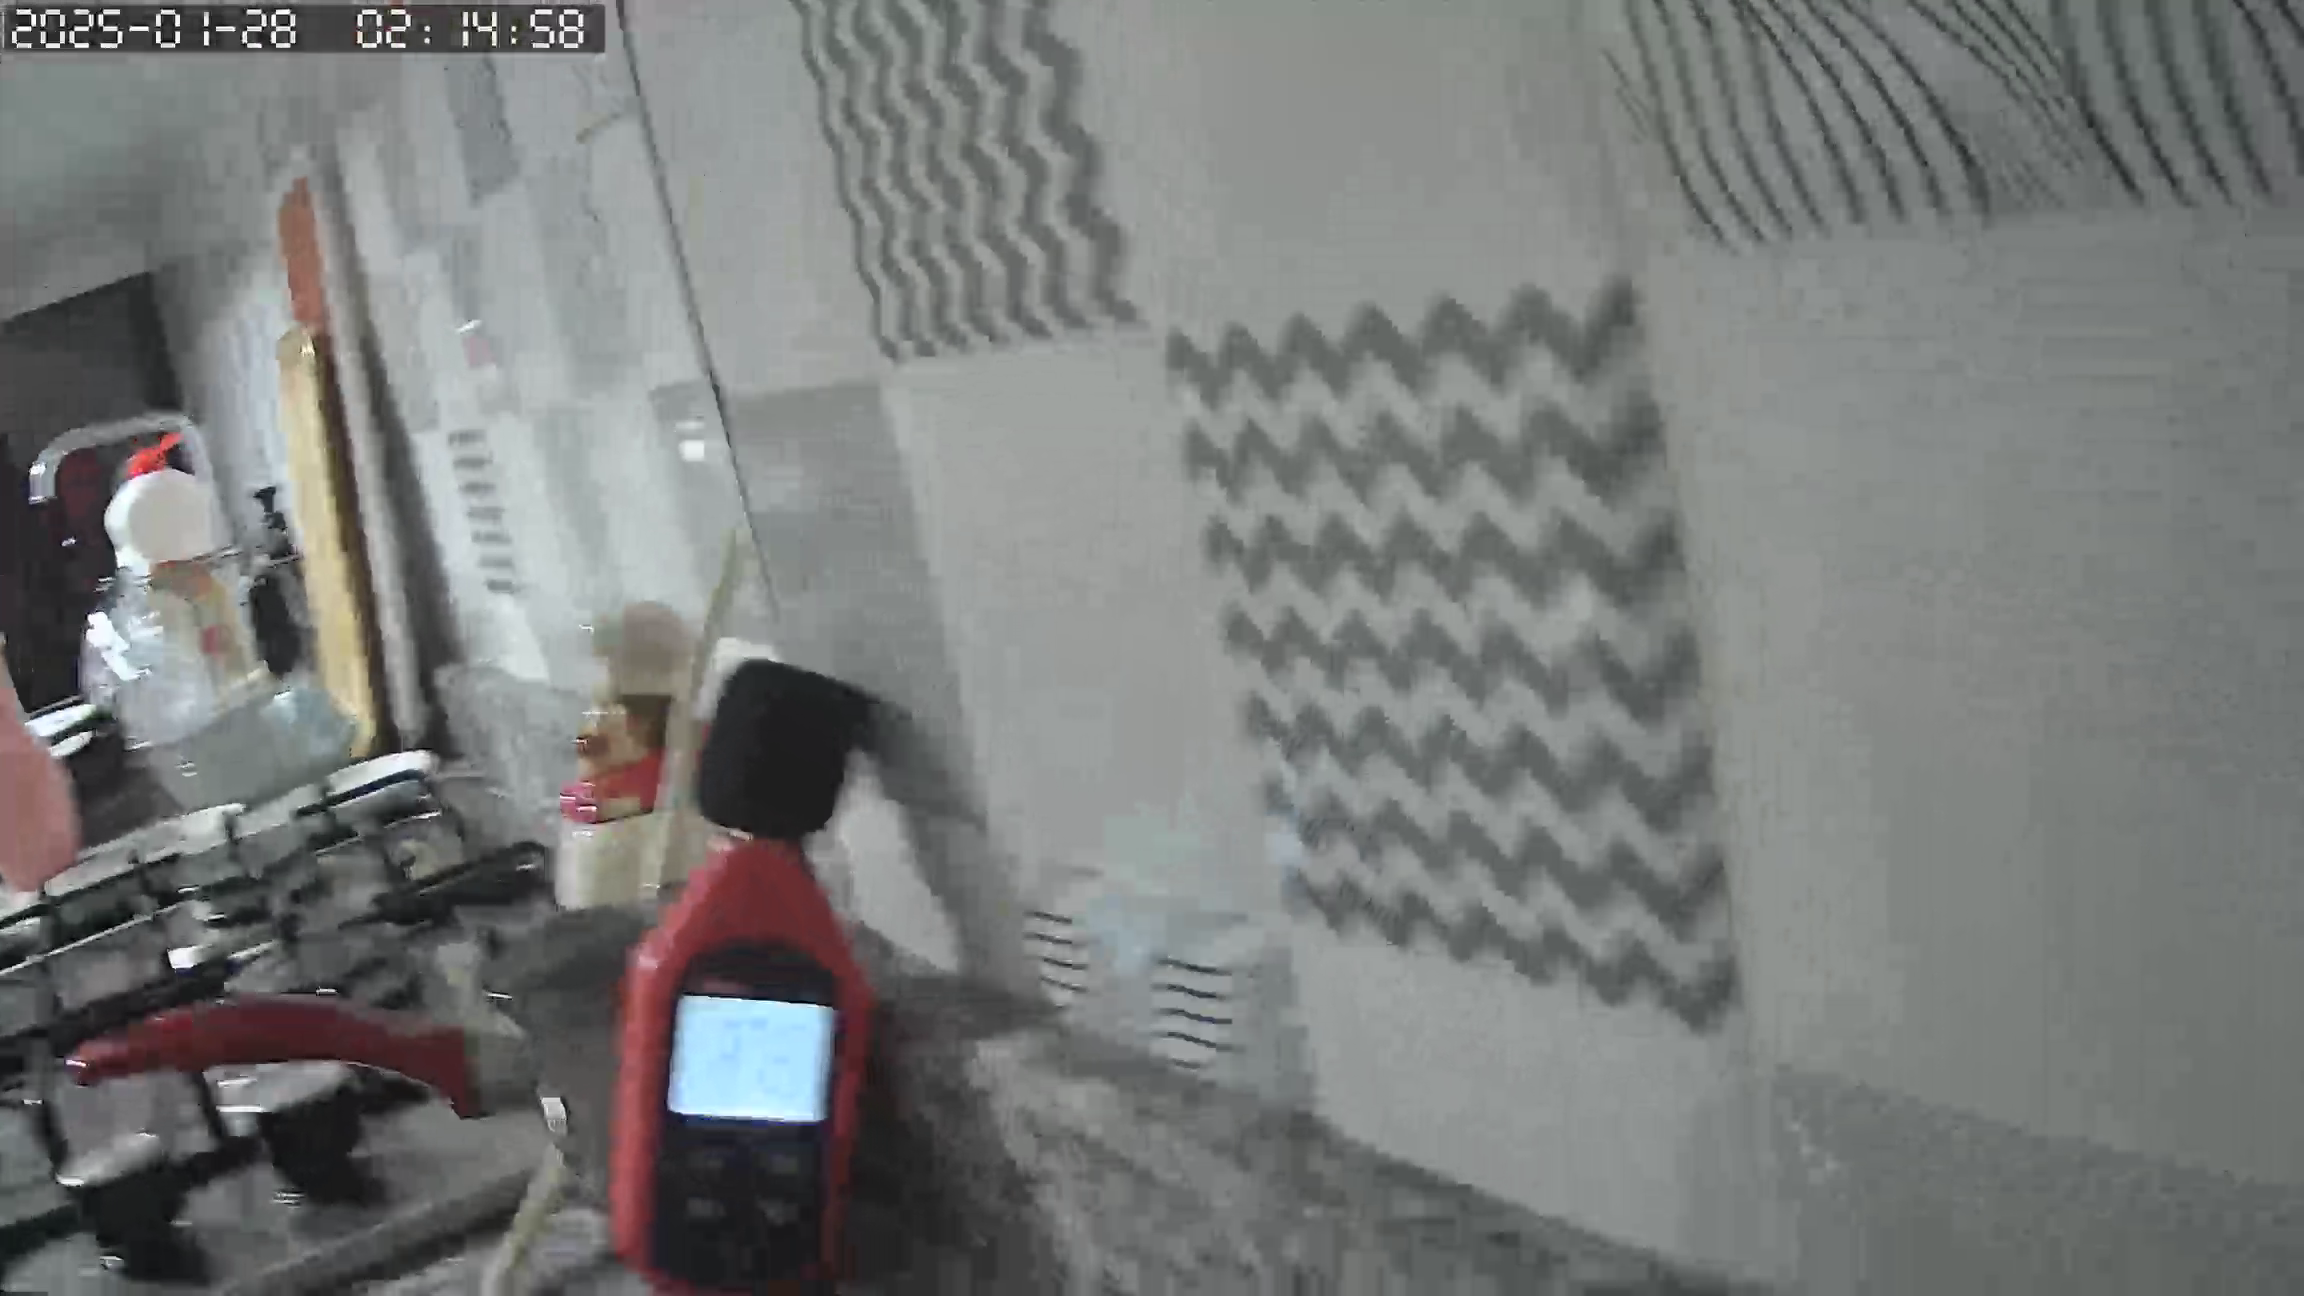screen: (666, 995, 839, 1127)
